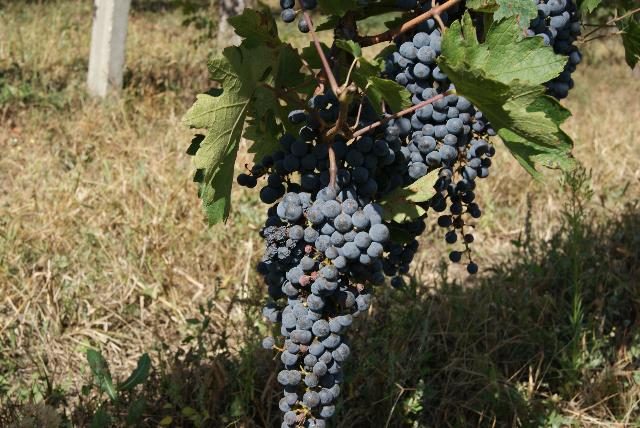grapes: (260, 188, 390, 428), (372, 31, 496, 230)
